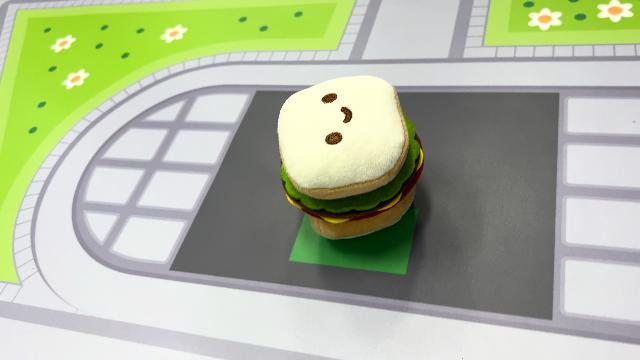sandwich: (274, 72, 426, 242)
